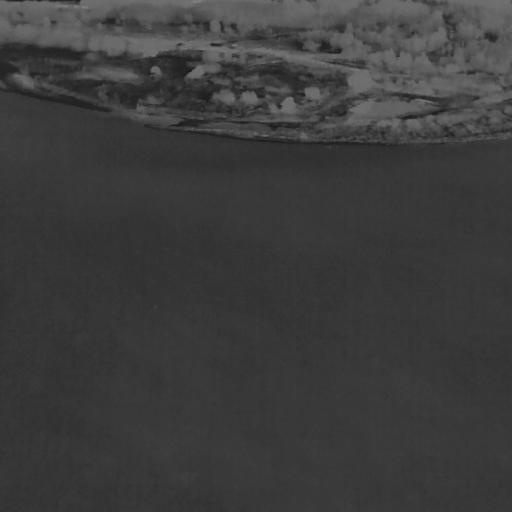uav: (154, 303, 163, 311)
